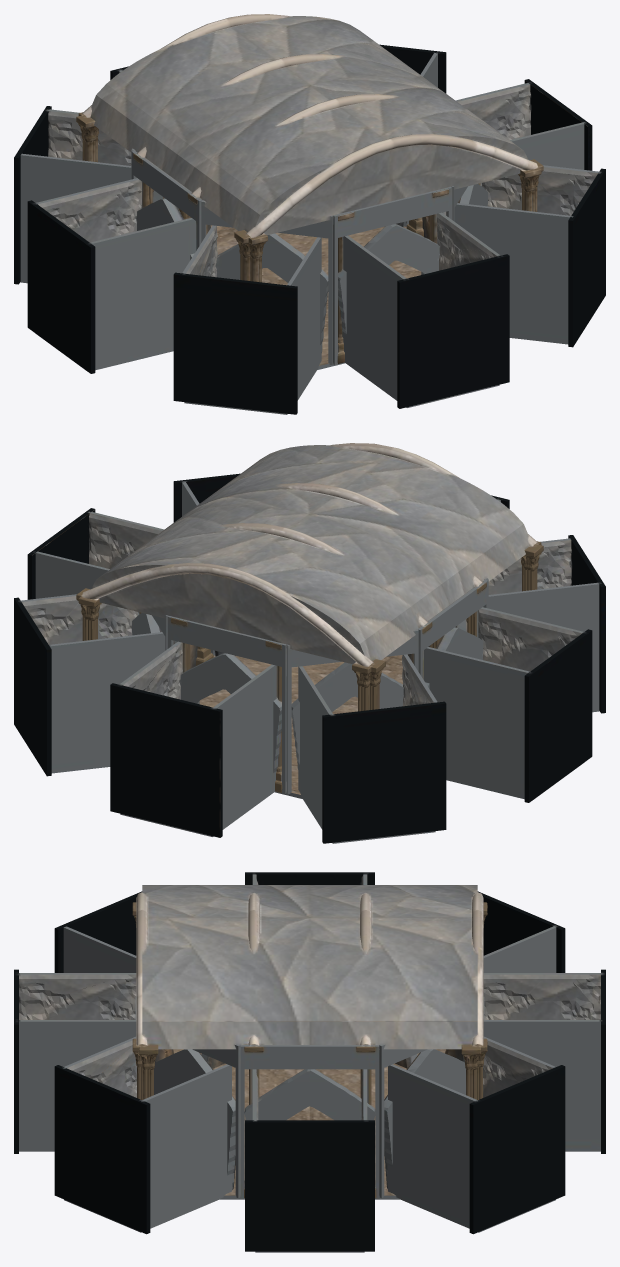
File: room.glb
3 renders of one model, top to bottom at view 1: azimuth 30°, elevation 25°; view 2: azimuth 150°, elevation 25°; view 3: azimuth 270°, elevation 25°, orthographic. The views are drawn at different scales.
Visible parts, largest first — view 1: DIAMOND-9; view 2: DIAMOND-9; view 3: DIAMOND-9.
Part boxes in pixels (x1=…): DIAMOND-9: x1=14, y1=14, x2=605, y2=414; DIAMOND-9: x1=14, y1=443, x2=605, y2=843; DIAMOND-9: x1=14, y1=872, x2=605, y2=1252.
Size of the model in its own units: 14.12 by 5.75 by 14.12.
1 material, 1 textured.
